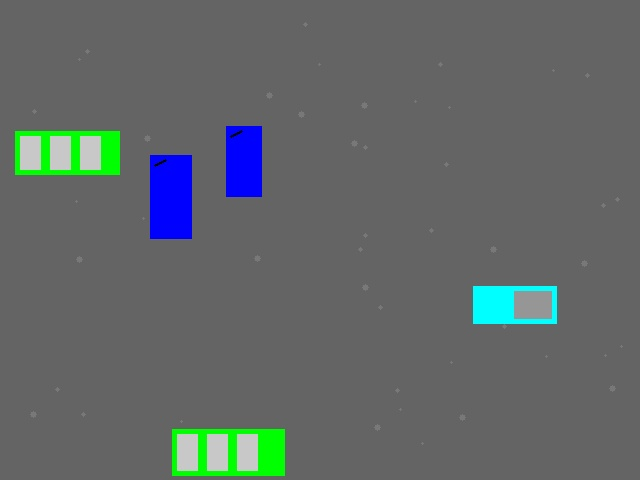bus: (172, 429, 284, 475), (15, 131, 119, 174)
motorcycle: (150, 155, 191, 238), (226, 126, 261, 196)
truck: (473, 286, 556, 323)
